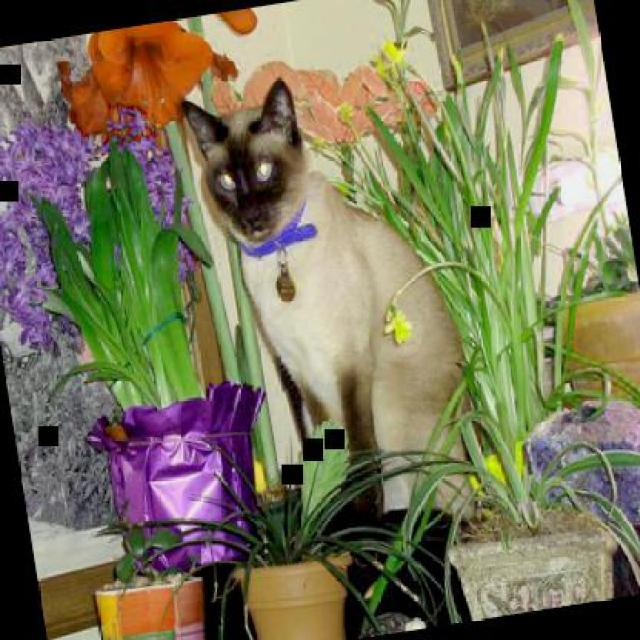cat: (176, 52, 490, 554)
